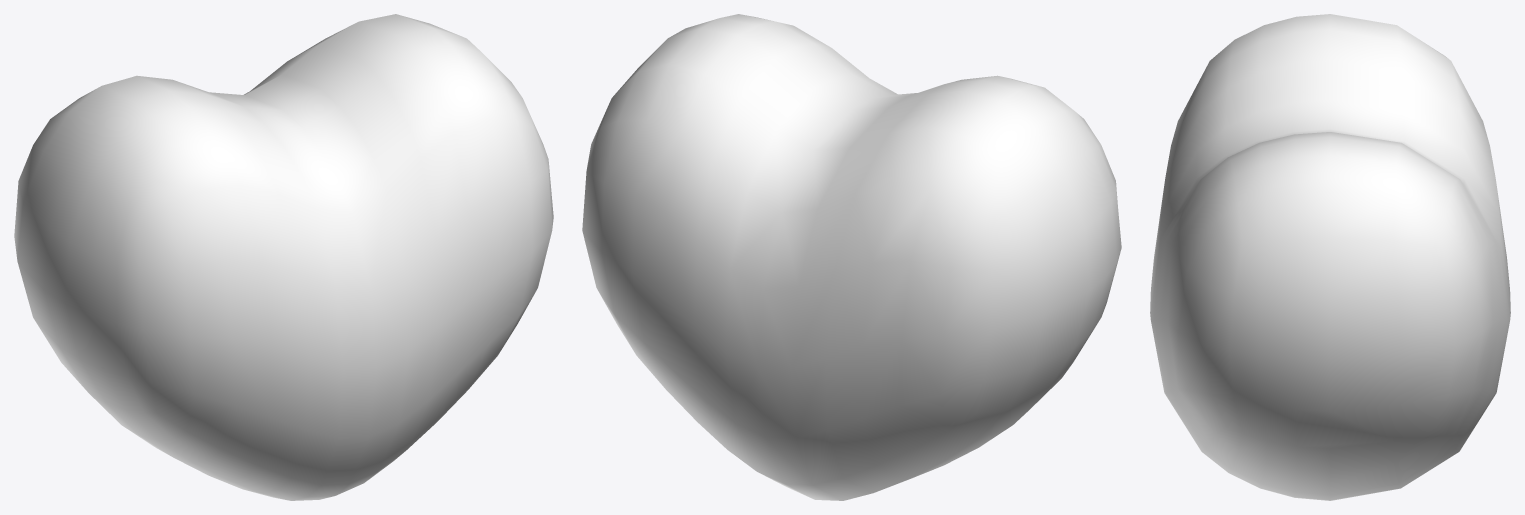
File: Heart.fbx
3 views of the same model, side by side, from view 1: azimuth 30°, elevation 25°; view 2: azimuth 150°, elevation 25°; view 3: azimuth 270°, elevation 25° (orthographic). The views are drawn at different scales.
Parts seen in each view (by area): view 1: Cube.006; view 2: Cube.006; view 3: Cube.006.
Boxes of the visible parts, box(x1,y1,x2,y2) form: Cube.006: box(14, 14, 553, 500); Cube.006: box(582, 14, 1121, 500); Cube.006: box(1150, 14, 1510, 500).
Bounding box in the file's own units: 31.33 × 26.46 × 21.11.
